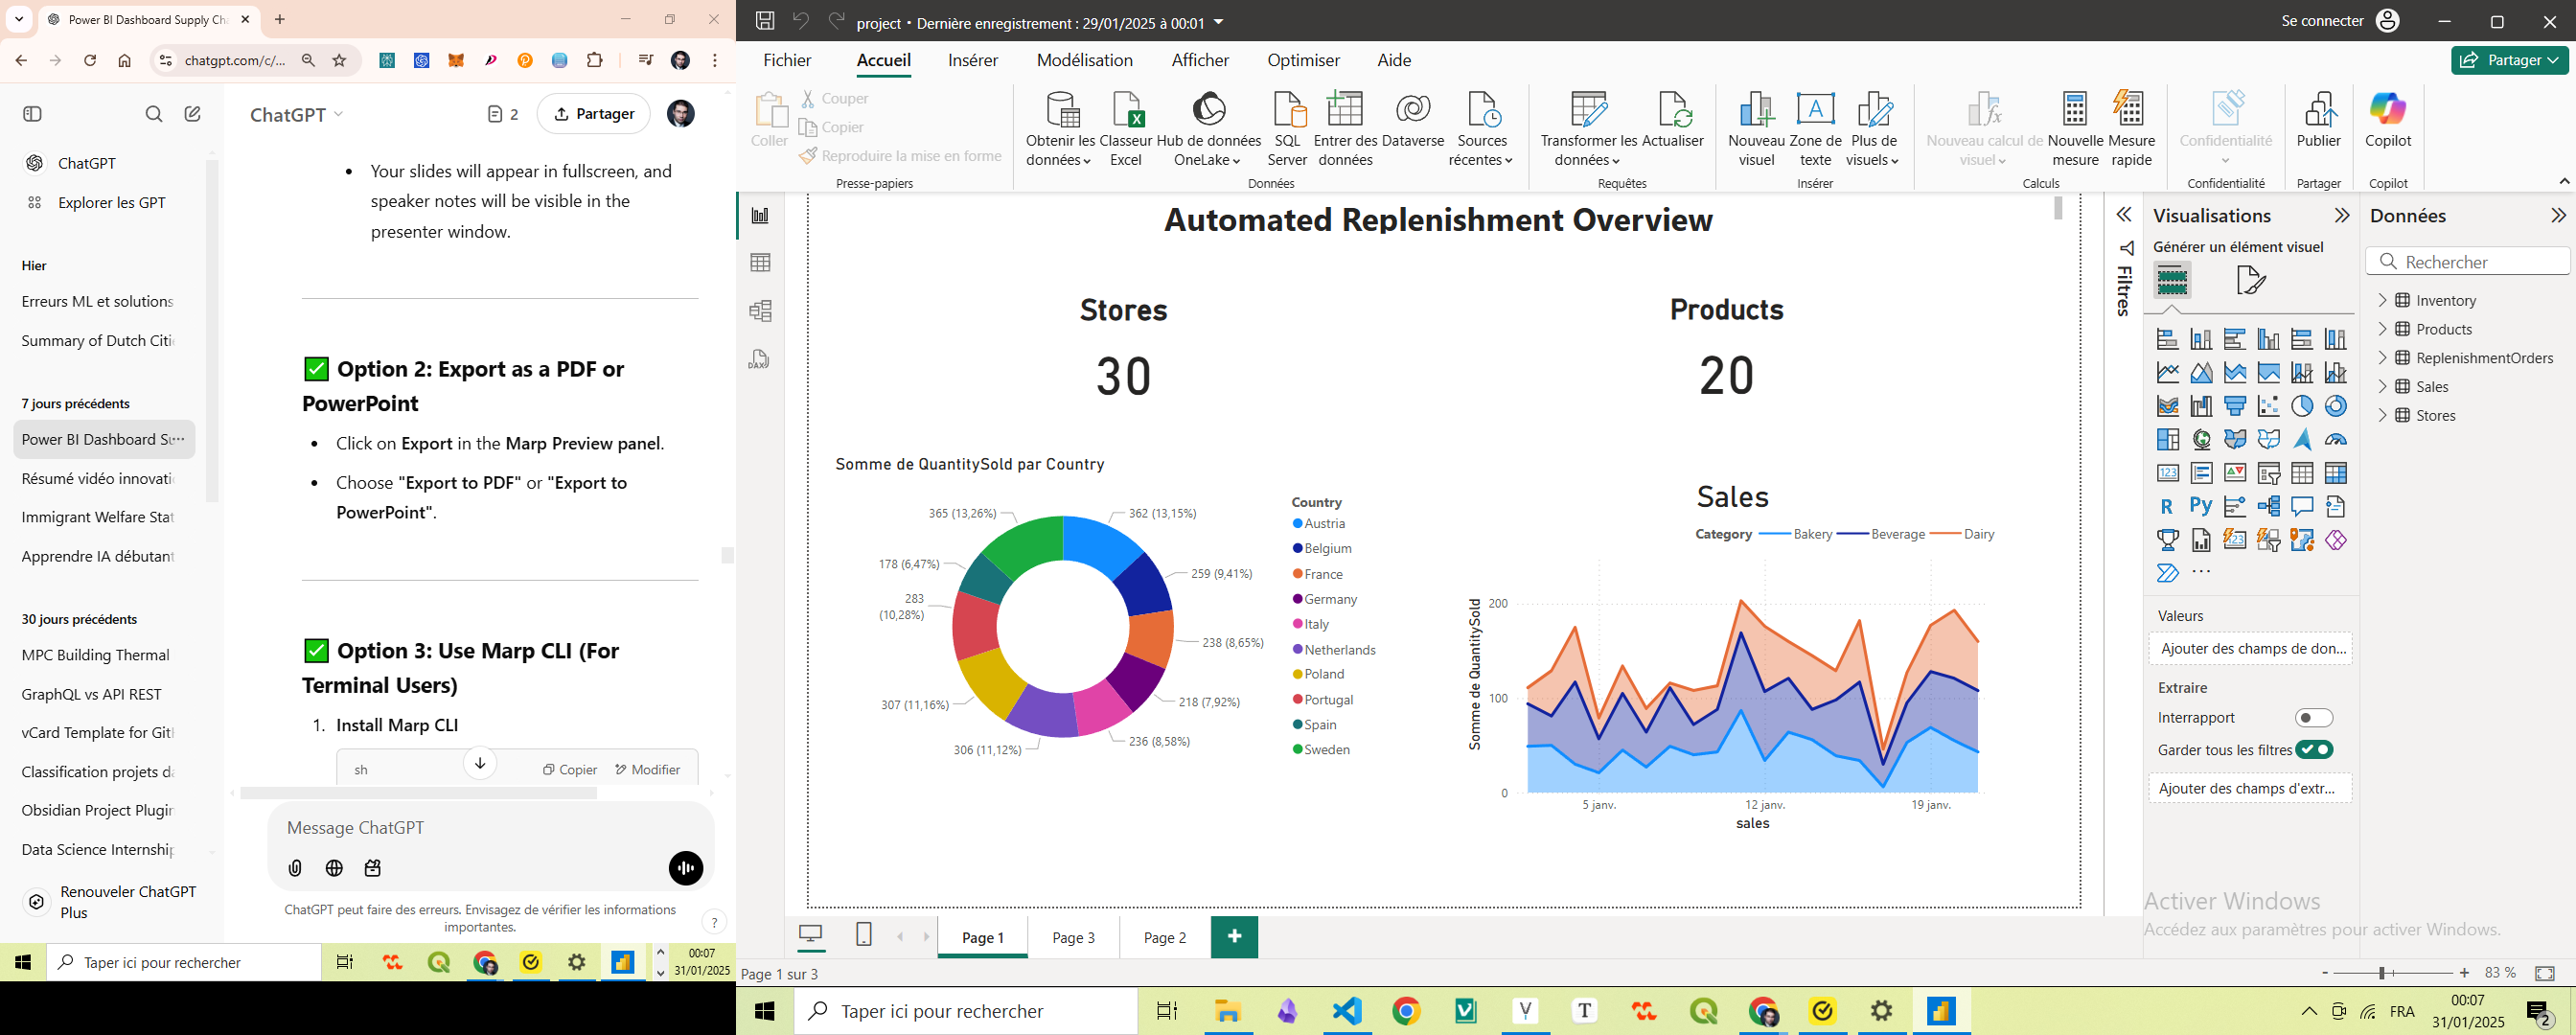

This screenshot's page, from the dashboard's own definition file:
{"tool":"powerbi","page":{"name":"Page 1","canvas":[1280,720],"ordinal":0},"visuals":[{"type":"textbox","box":[10,290,280,280],"z":0},{"type":"textbox","box":[9.7,0,1257.7,47.3],"z":1000},{"type":"card","title":"Stores","fields":{"Values":["CountNonNull(Stores.StoreID)"]},"box":[224.4,101.3,185.8,119.4],"z":2000},{"type":"card","title":"Products","fields":{"Values":["CountNonNull(Products.ProductID)"]},"box":[857.8,101.3,133.9,119.4],"z":3000},{"type":"donutChart","fields":{"Y":["Sum(Sales.QuantitySold)"],"Series":["Stores.Country"]},"box":[21.7,264.2,563.4,329.4],"z":4000},{"type":"pieChart","title":"Sales","fields":{"Series":["Products.Category"],"Y":["Sum(Sales.QuantitySold)"]},"box":[657.5,289.5,546.5,359.5],"z":5000},{"type":"qnaVisual","box":[991.7,101.3,275.8,150],"z":5001}]}

Visuals, with their boxes on the page's 1280x720 design canvas (x1, y1, x2, y2). These are canvas units, not pixel positions in the 2576x1035 screenshot, which may show the page scaled, cropped or inside an application window:
textbox: [10,290,290,570]
textbox: [10,0,1267,47]
"Stores" card: [224,101,410,221]
"Products" card: [858,101,992,221]
donutChart - Sum(Sales.QuantitySold) x Stores.Country: [22,264,585,594]
"Sales" pieChart: [658,290,1204,649]
qnaVisual: [992,101,1268,251]
